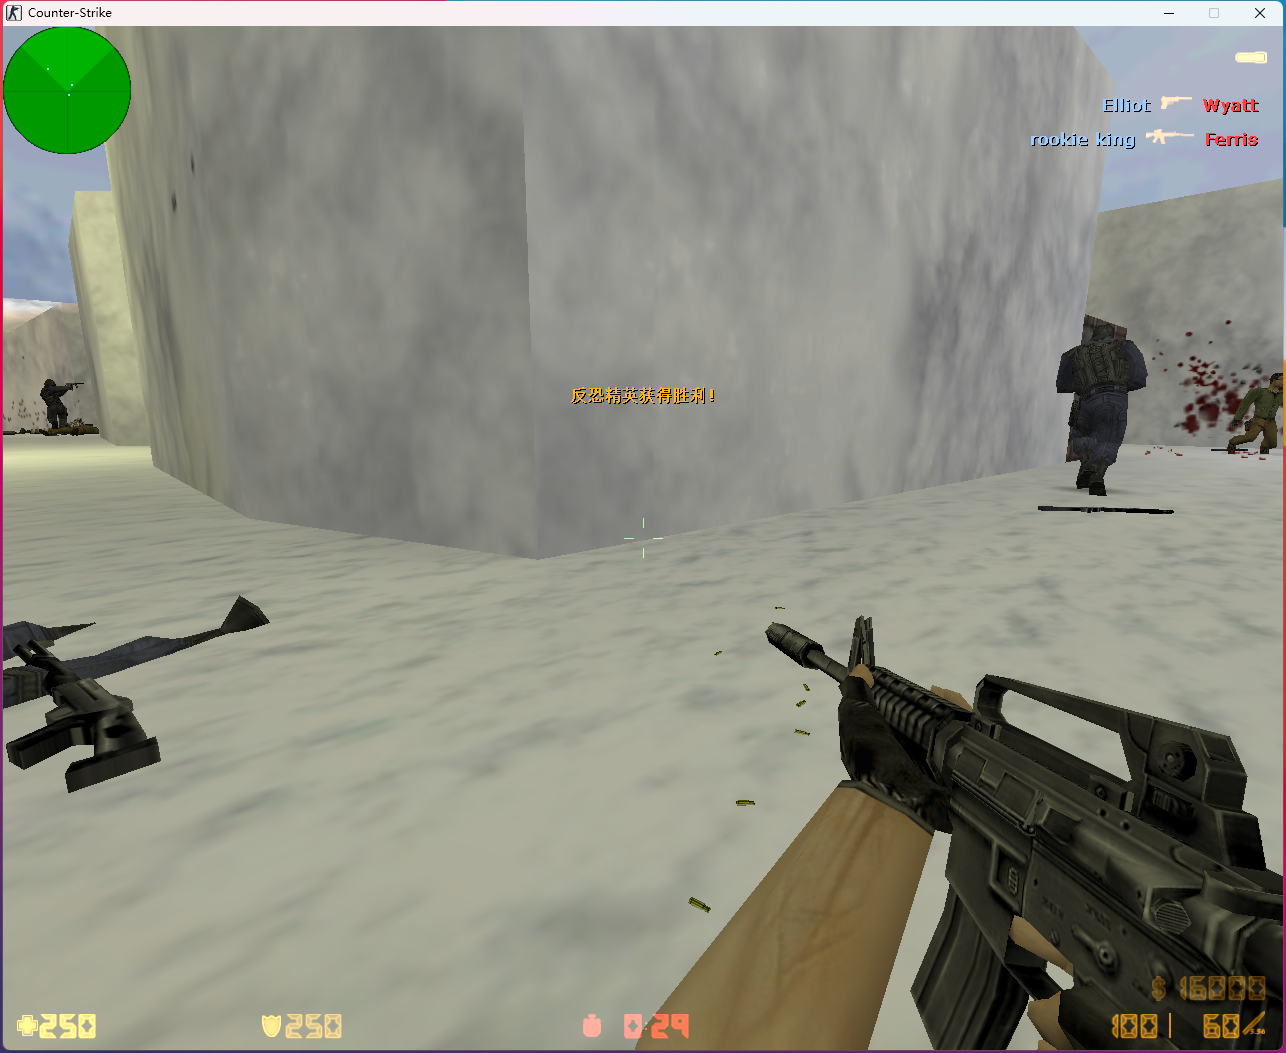T: (1057, 325, 1152, 497), (35, 376, 82, 429)
dead: (1227, 371, 1286, 460), (37, 425, 97, 440)
weapon: (13, 634, 171, 808), (1028, 498, 1183, 521)
